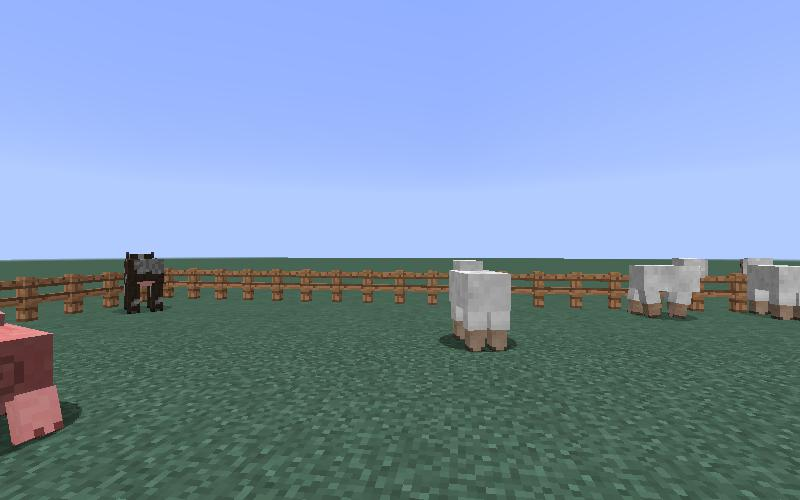cow: (121, 247, 166, 318)
pig: (1, 312, 64, 444)
sheep: (443, 251, 517, 356), (622, 251, 712, 331), (739, 256, 800, 322)
